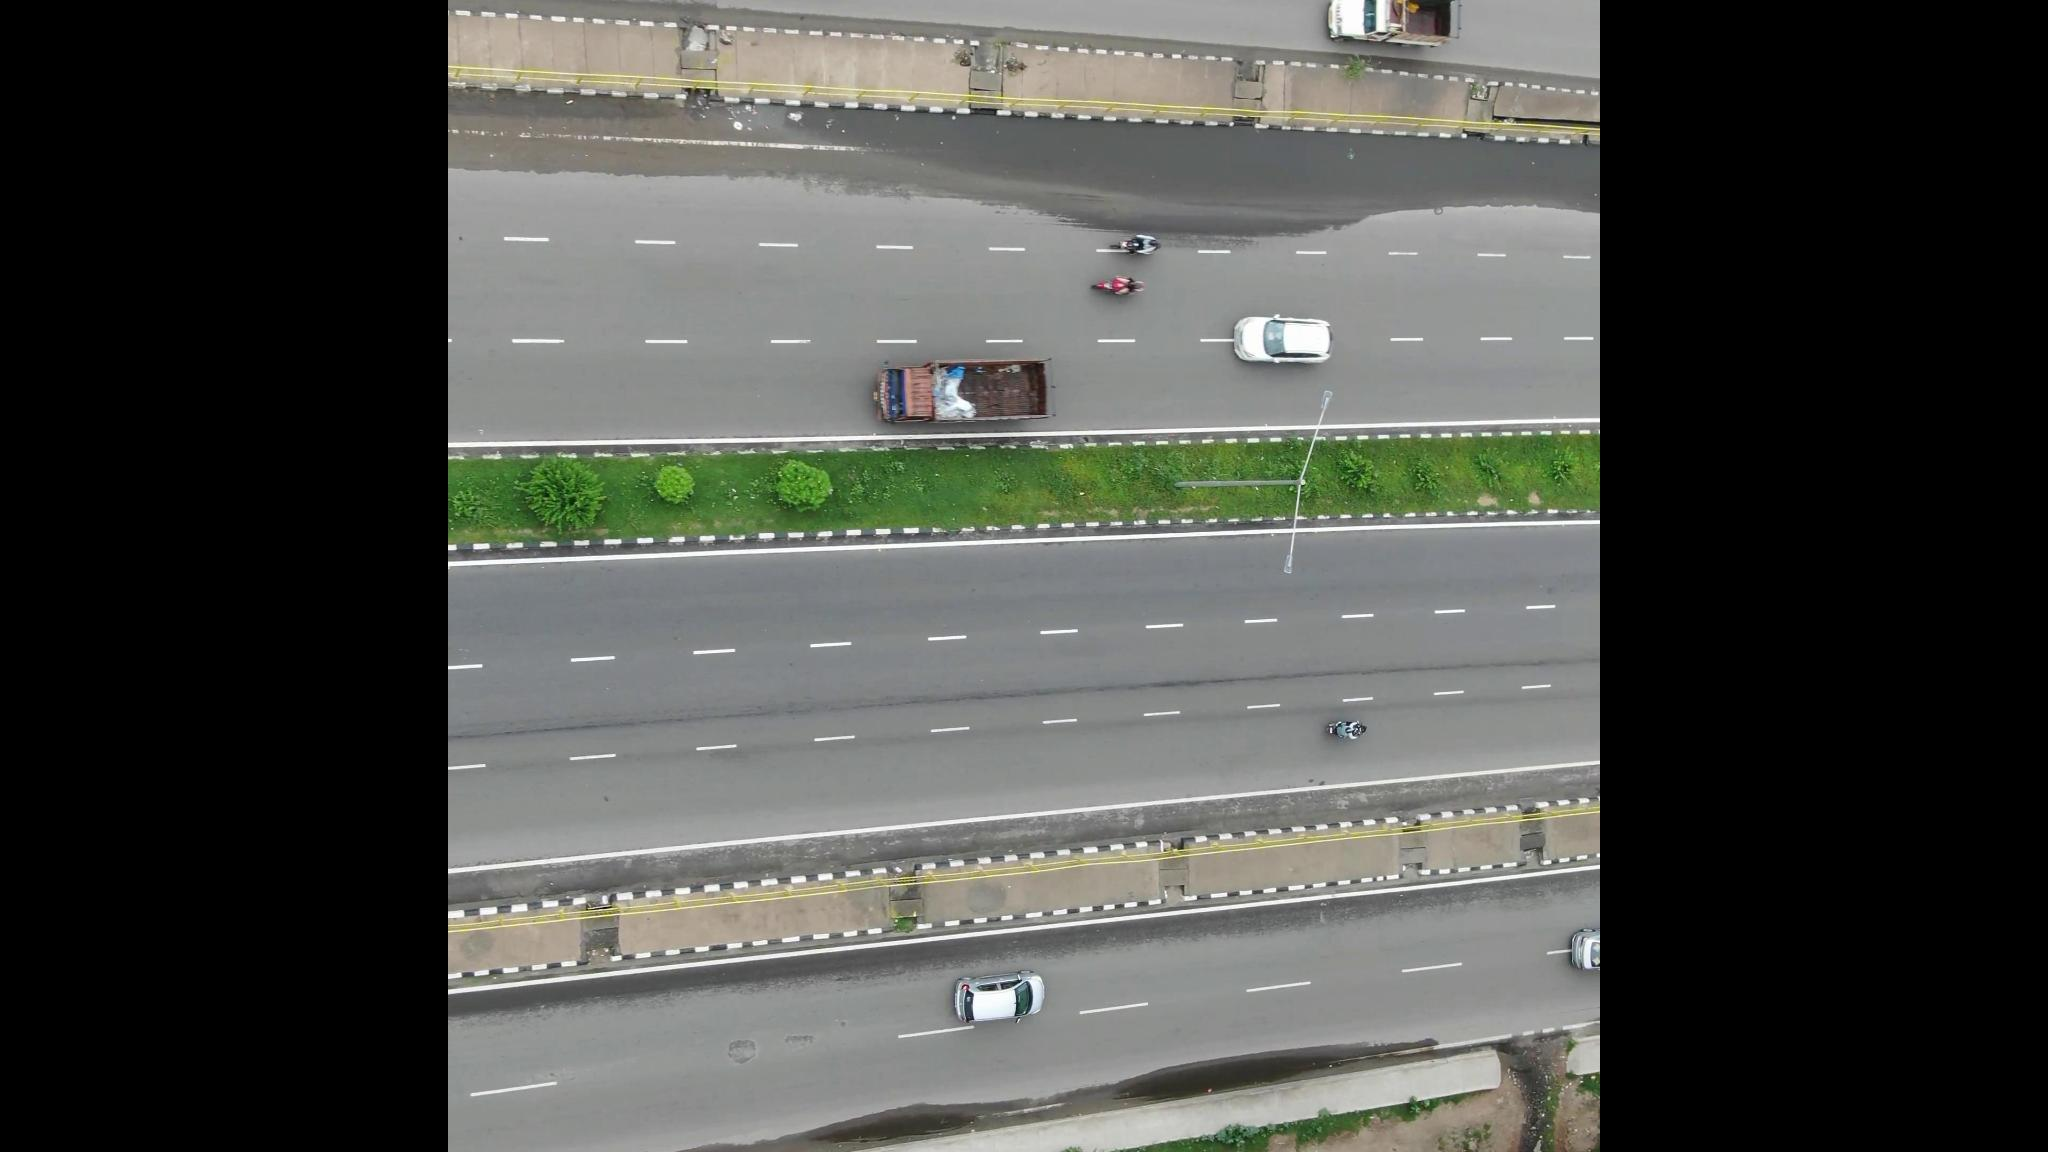Waterlogging: (857, 115, 1345, 236), (1134, 1031, 1414, 1115), (798, 1080, 1039, 1152)
